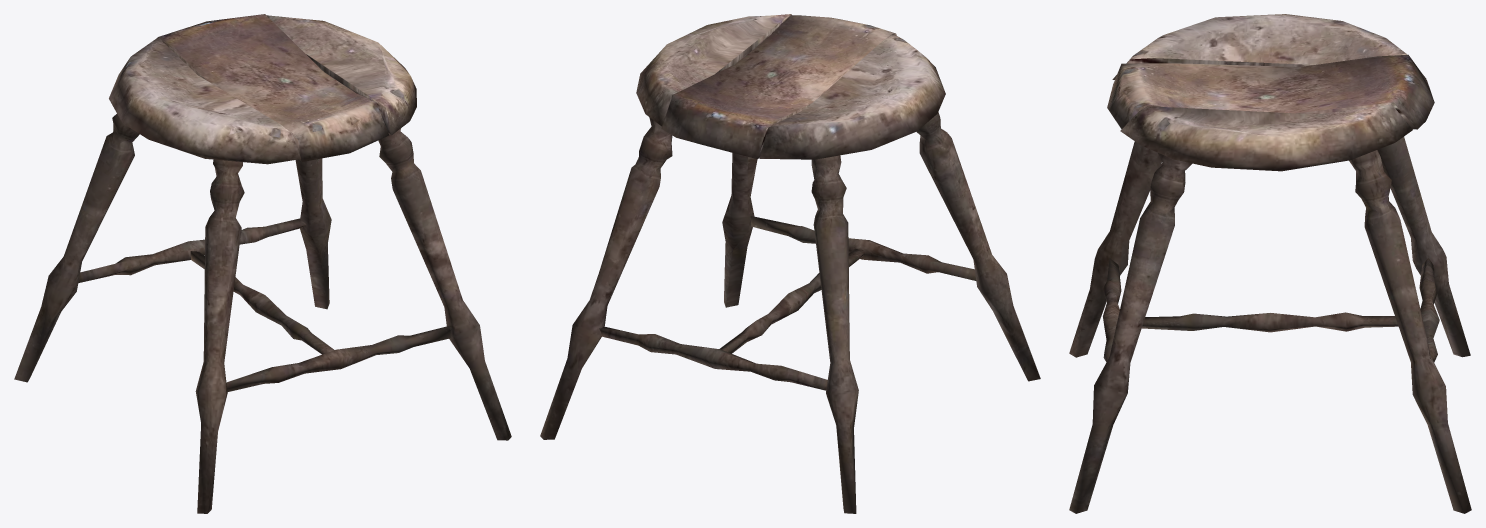
File: yardprop_wooden_stool_01.glb
3 views of the same model, side by side, from view 1: azimuth 30°, elevation 25°; view 2: azimuth 150°, elevation 25°; view 3: azimuth 270°, elevation 25° (orthographic). The views are drawn at different scales.
Visible parts, largest first — view 1: wooden_stool_01; view 2: wooden_stool_01; view 3: wooden_stool_01.
Part boxes in pixels (x1,y1,x2,y2): wooden_stool_01: (14, 14, 511, 513); wooden_stool_01: (540, 14, 1040, 513); wooden_stool_01: (1069, 14, 1471, 513).
Bounding box in the file's own units: 0.4266 × 0.4383 × 0.4434.
Materials: 1 (1 with a texture image).
